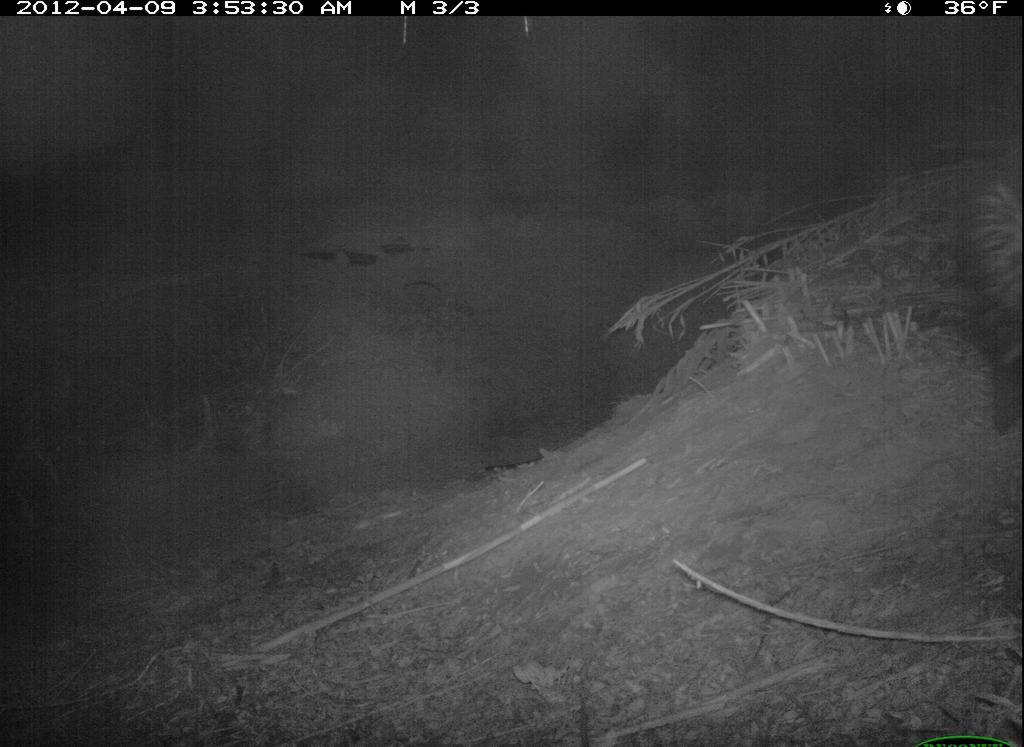skunk: (955, 171, 1023, 442)
